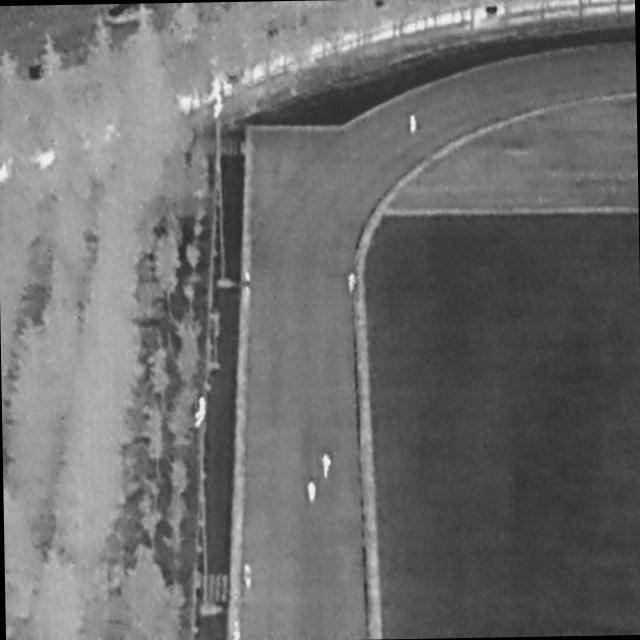person: (243, 562, 253, 592), (323, 451, 332, 479), (348, 271, 358, 295), (307, 480, 316, 503), (410, 114, 419, 135), (233, 611, 241, 634), (245, 270, 252, 294)
